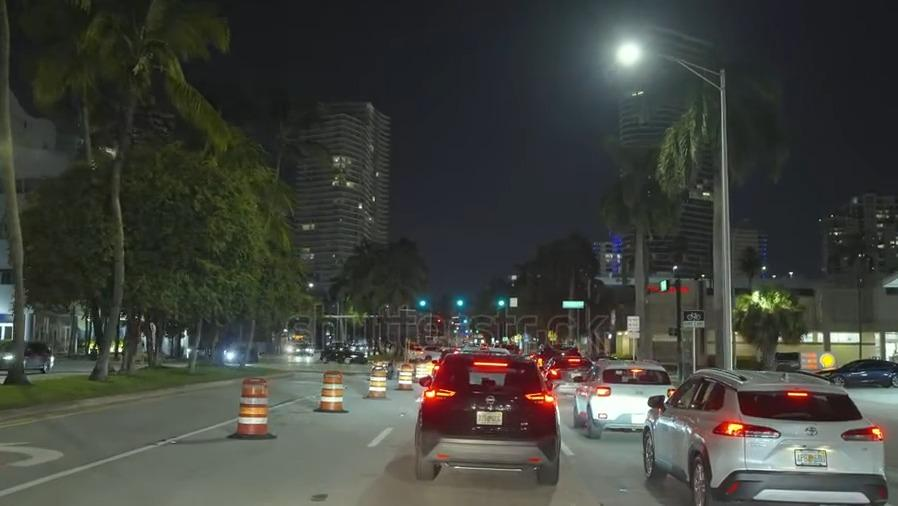car: (648, 364, 882, 506), (413, 349, 559, 480), (574, 359, 666, 425), (821, 355, 898, 393), (0, 337, 61, 375), (546, 353, 587, 389), (322, 343, 367, 371)
cone: (230, 373, 279, 441), (315, 370, 346, 413), (366, 363, 387, 398), (396, 363, 408, 390)
traffic light: (493, 291, 511, 315), (409, 295, 433, 312), (448, 295, 470, 313)
wheel: (638, 429, 660, 479), (688, 457, 710, 503)
